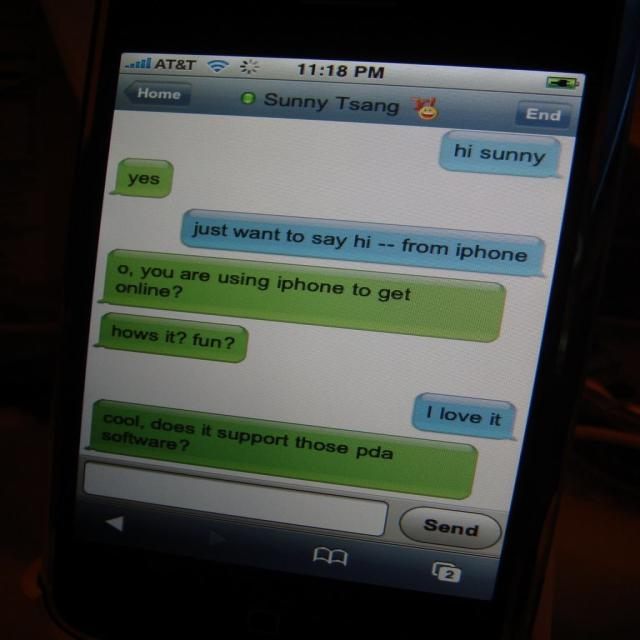Mobile-phone: (41, 19, 639, 639)
